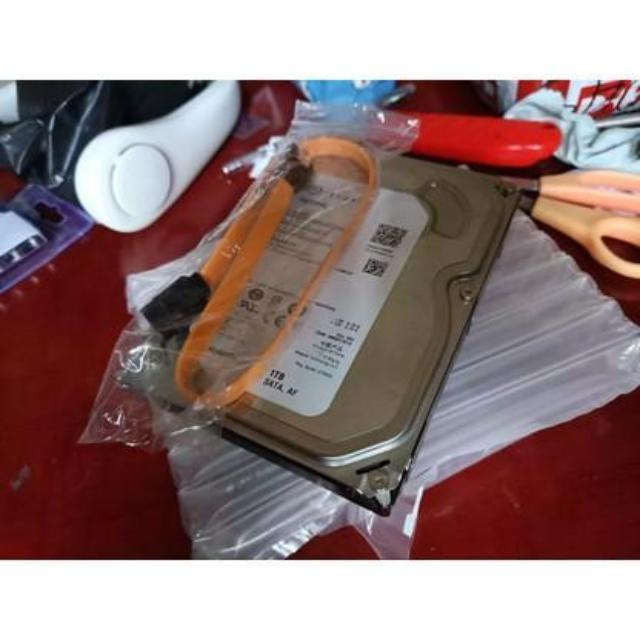DISK: (131, 123, 506, 514)
